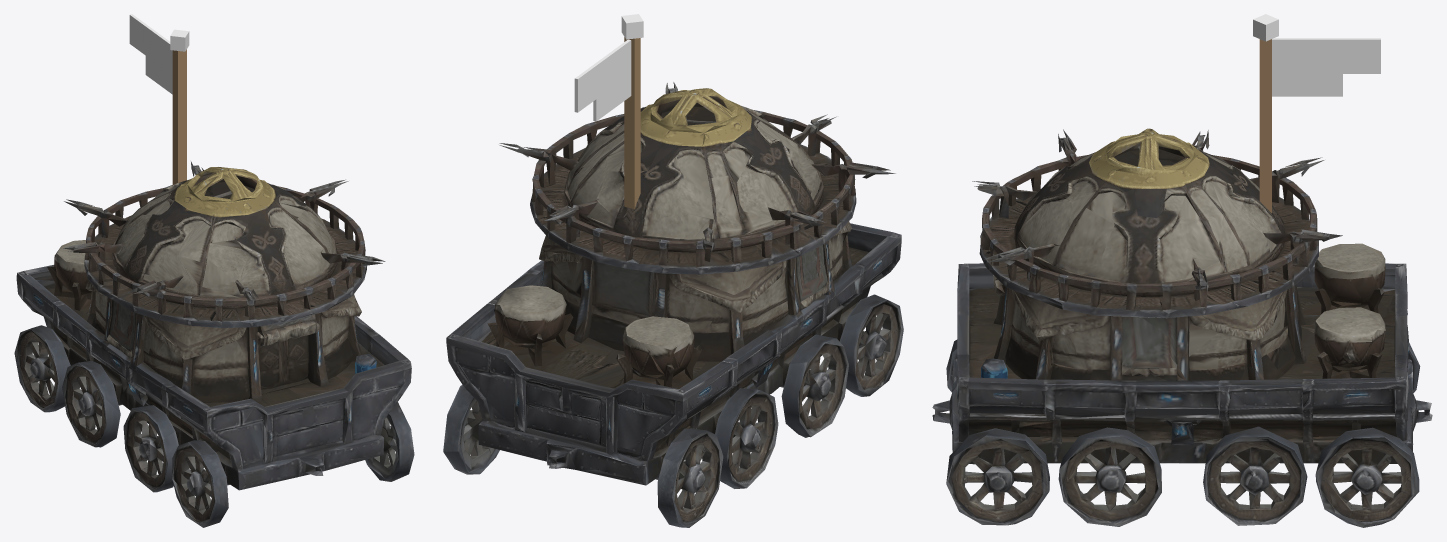
The model's file is steppe_war_ordu.glb.
3 views of the same model, side by side, from view 1: azimuth 30°, elevation 25°; view 2: azimuth 150°, elevation 25°; view 3: azimuth 270°, elevation 25° (orthographic). The views are drawn at different scales.
Parts seen in each view (by area): view 1: steppe_war_ordu, Team_pennant; view 2: steppe_war_ordu, Team_pennant; view 3: steppe_war_ordu, Team_pennant.
Boxes of the visible parts, box(x1,y1,x2,y2) form: steppe_war_ordu: box(14, 161, 414, 527); Team_pennant: box(129, 14, 189, 184); steppe_war_ordu: box(443, 82, 903, 527); Team_pennant: box(574, 14, 643, 209); steppe_war_ordu: box(932, 128, 1432, 527); Team_pennant: box(1253, 14, 1380, 213).
Size of the model in its own units: 0.7646 by 0.9774 by 0.9796.
Materials: 3 (1 with a texture image).
